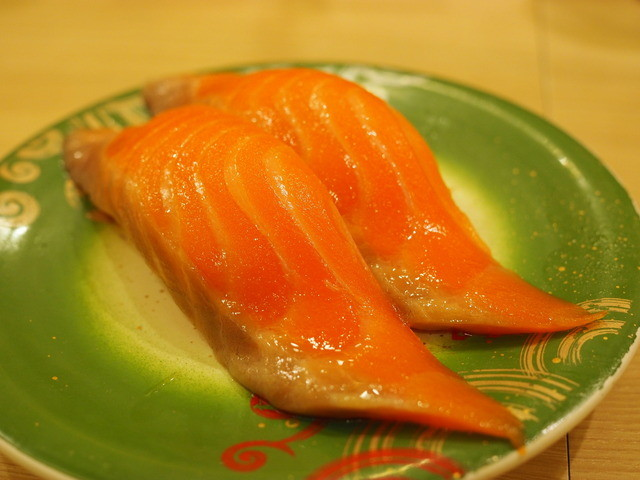salmon: (62, 103, 504, 447)
